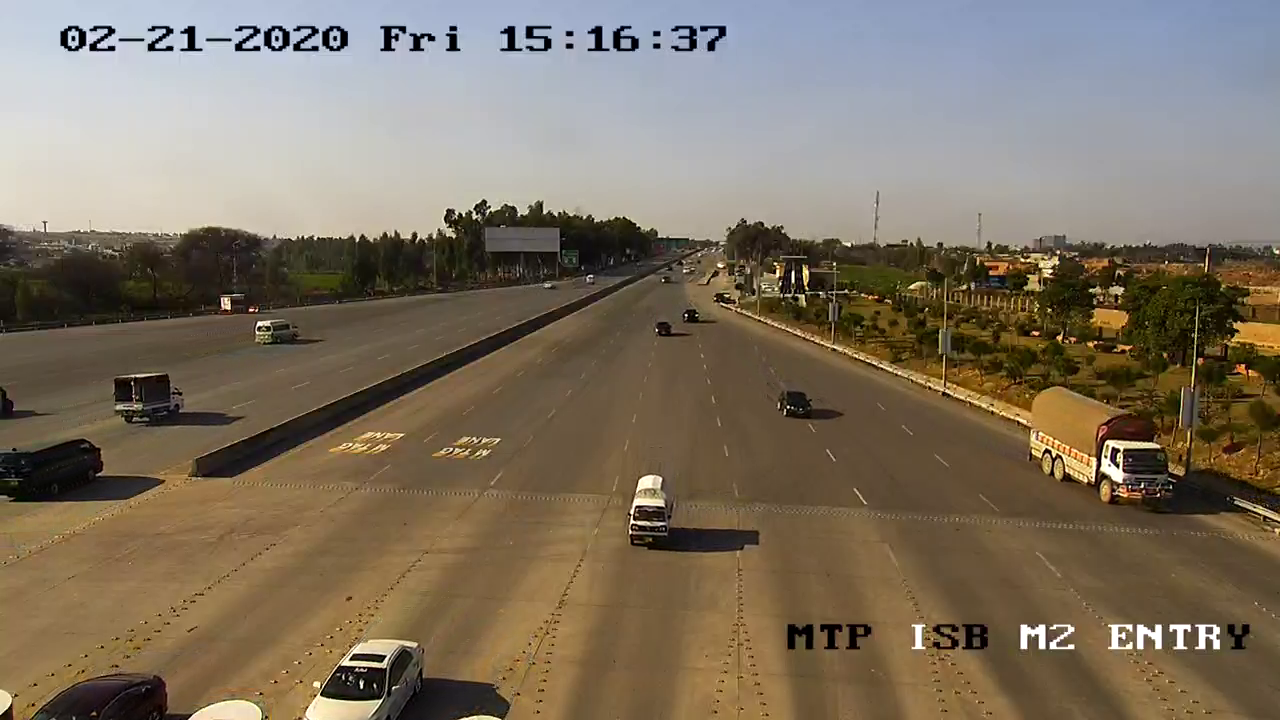f1: (615, 464, 686, 556)
f5: (1027, 384, 1183, 521)
